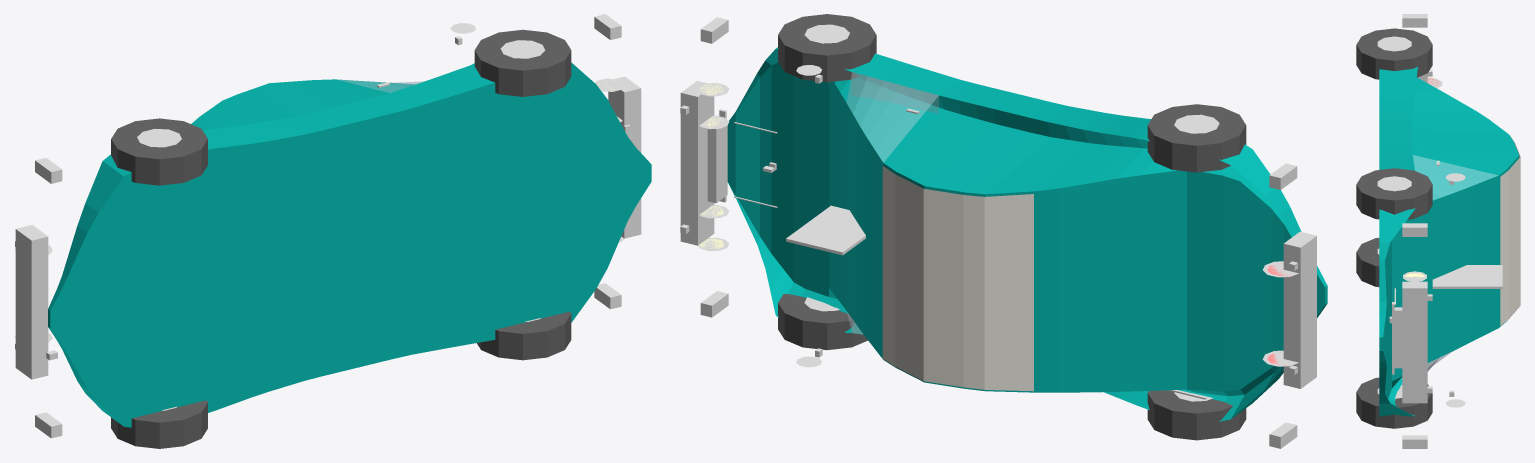
Rendered from Vehicle_4_8.glb.
The picture shows the model from 3 angles, left to right: view 1: azimuth 30°, elevation 25°; view 2: azimuth 150°, elevation 25°; view 3: azimuth 270°, elevation 25°; orthographic projection. The views are drawn at different scales.
Visible parts, largest first — view 1: Body, BumperR, Wheel_-1.3_0.9, Wheel_1.3_0.9, Wheel_-1.3_-0.9, Wheel_1.3_-0.9, BumperF, Hubcap_1.3_0.9, Hubcap_-1.3_0.9; view 2: Body, Roof, Wheel_-1.3_0.9, BumperR, Wheel_1.3_0.9, Windows, BumperF, Wheel_-1.3_-0.9, Wheel_1.3_-0.9, WindshieldSurround, GrilleSurround, Hubcap_1.3_0.9 (+1 smaller); view 3: Body, BumperF, Roof, Wheel_1.3_0.9, Wheel_-1.3_0.9, Wheel_1.3_-0.9, Windows, WindshieldSurround, Wheel_-1.3_-0.9, GrilleSurround, Hubcap_1.3_0.9, Hubcap_-1.3_0.9 (+4 smaller).
Boxes of the visible parts, left/top/right/bottom form: Body: left=48, top=62, right=651, bottom=427; BumperR: left=15, top=225, right=48, bottom=379; Wheel_-1.3_0.9: left=111, top=118, right=207, bottom=185; Wheel_1.3_0.9: left=474, top=29, right=571, bottom=96; Wheel_-1.3_-0.9: left=111, top=400, right=207, bottom=448; Wheel_1.3_-0.9: left=477, top=311, right=571, bottom=360; BumperF: left=608, top=76, right=641, bottom=238; Hubcap_1.3_0.9: left=500, top=40, right=545, bottom=58; Hubcap_-1.3_0.9: left=137, top=129, right=181, bottom=147; Body: left=727, top=47, right=1327, bottom=421; Roof: left=882, top=166, right=1033, bottom=391; Wheel_-1.3_0.9: left=1147, top=104, right=1246, bottom=172; BumperR: left=1283, top=231, right=1316, bottom=388; Wheel_1.3_0.9: left=778, top=14, right=876, bottom=82; Windows: left=846, top=72, right=938, bottom=334; BumperF: left=680, top=81, right=714, bottom=245; Wheel_-1.3_-0.9: left=1147, top=390, right=1246, bottom=440; Wheel_1.3_-0.9: left=778, top=294, right=867, bottom=350; WindshieldSurround: left=786, top=205, right=865, bottom=255; GrilleSurround: left=707, top=126, right=727, bottom=203; Hubcap_1.3_0.9: left=804, top=24, right=849, bottom=43; Body: left=1379, top=66, right=1519, bottom=416; BumperF: left=1402, top=281, right=1427, bottom=403; Roof: left=1500, top=136, right=1520, bottom=325; Wheel_1.3_0.9: left=1356, top=168, right=1432, bottom=219; Wheel_-1.3_0.9: left=1356, top=28, right=1432, bottom=79; Wheel_1.3_-0.9: left=1356, top=377, right=1432, bottom=428; Windows: left=1413, top=155, right=1497, bottom=371; WindshieldSurround: left=1432, top=265, right=1502, bottom=288; Wheel_-1.3_-0.9: left=1356, top=237, right=1379, bottom=287; GrilleSurround: left=1394, top=307, right=1402, bottom=368; Hubcap_1.3_0.9: left=1377, top=176, right=1411, bottom=191; Hubcap_-1.3_0.9: left=1377, top=36, right=1411, bottom=51.
Bounding box in the file's own units: 4.36 × 1.99 × 1.29.
